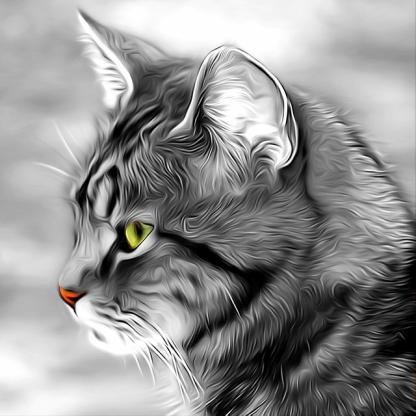cat: (59, 8, 415, 415)
